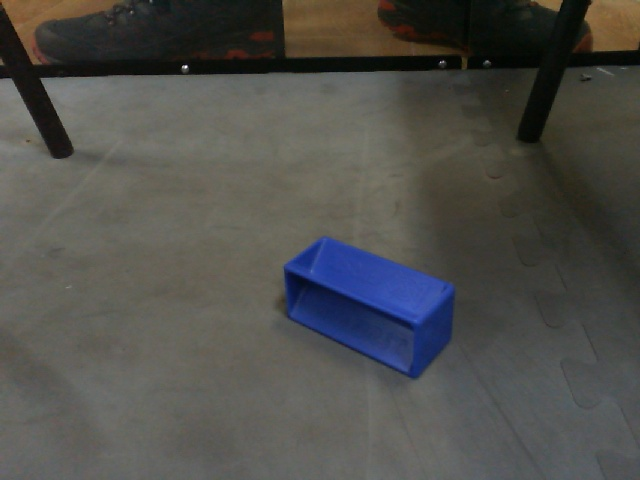BlueSample: (282, 228, 459, 388)
